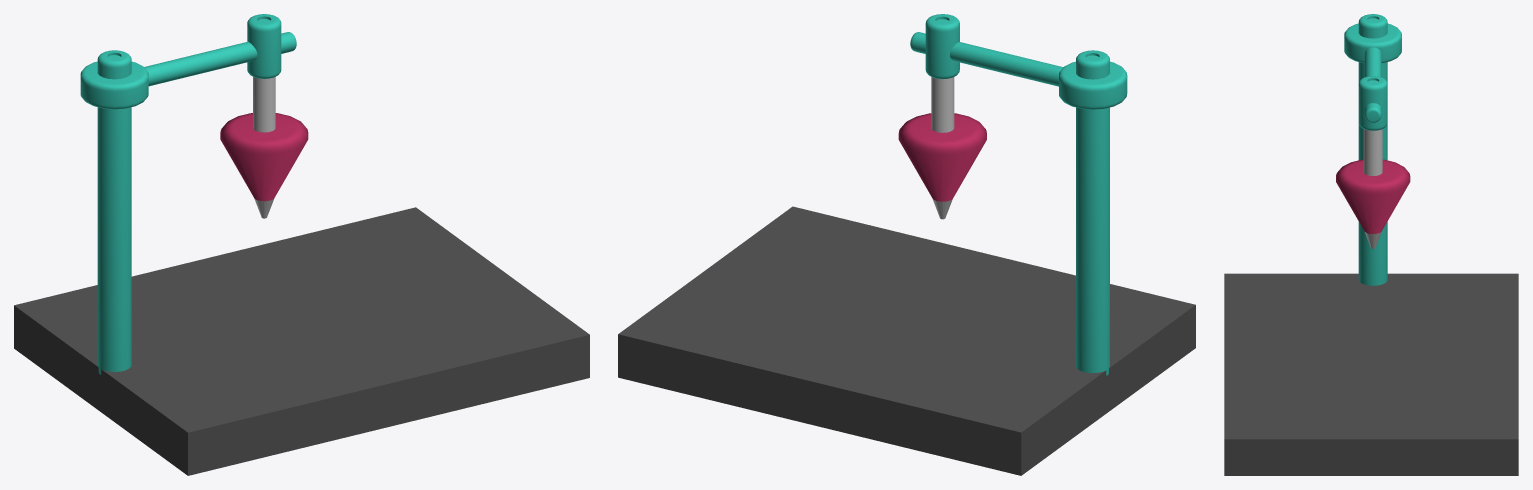
Rendered from sprinkle.FBX.
3 views of the same model, side by side, from view 1: azimuth 30°, elevation 25°; view 2: azimuth 150°, elevation 25°; view 3: azimuth 270°, elevation 25° (orthographic). The views are drawn at different scales.
Parts seen in each view (by area): view 1: base, Sprinkle_02, Sprinkle_03, Sprinkle_05, Sprinkle_06, Sprinkle_07, Sprinkle_04; view 2: base, Sprinkle_02, Sprinkle_03, Sprinkle_05, Sprinkle_06, Sprinkle_07, Sprinkle_04; view 3: base, Sprinkle_03, Sprinkle_02, Sprinkle_06, Sprinkle_07, Sprinkle_04, Sprinkle_05.
Part boxes in pixels (x1,y1,x2,y2): base: [14, 207, 589, 475]; Sprinkle_02: [97, 50, 131, 374]; Sprinkle_03: [220, 113, 308, 201]; Sprinkle_05: [144, 32, 296, 86]; Sprinkle_06: [80, 61, 148, 109]; Sprinkle_07: [247, 14, 281, 78]; Sprinkle_04: [253, 77, 275, 132]; base: [618, 206, 1195, 475]; Sprinkle_02: [1076, 50, 1109, 375]; Sprinkle_03: [898, 113, 986, 201]; Sprinkle_05: [910, 32, 1063, 86]; Sprinkle_06: [1059, 61, 1127, 109]; Sprinkle_07: [925, 14, 959, 79]; Sprinkle_04: [931, 77, 954, 132]; base: [1224, 273, 1518, 475]; Sprinkle_03: [1336, 159, 1410, 233]; Sprinkle_02: [1358, 14, 1387, 285]; Sprinkle_06: [1344, 23, 1401, 63]; Sprinkle_07: [1358, 76, 1387, 130]; Sprinkle_04: [1363, 129, 1382, 175]; Sprinkle_05: [1364, 47, 1381, 122].
Bounding box in the file's own units: 307 × 248 × 222.
